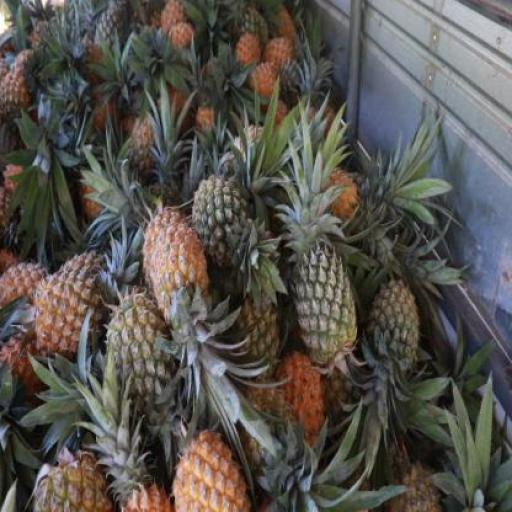------------------------------: (104, 295, 175, 405), (192, 175, 256, 274), (33, 443, 105, 512), (0, 67, 32, 126)
Pineapple - v8 v1: (36, 262, 106, 363), (170, 428, 248, 511), (158, 224, 217, 326), (141, 208, 190, 297), (0, 260, 48, 322), (250, 63, 284, 103), (265, 39, 294, 82), (234, 36, 260, 78)
